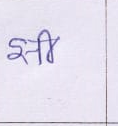i_matra: (40, 29, 56, 63)
